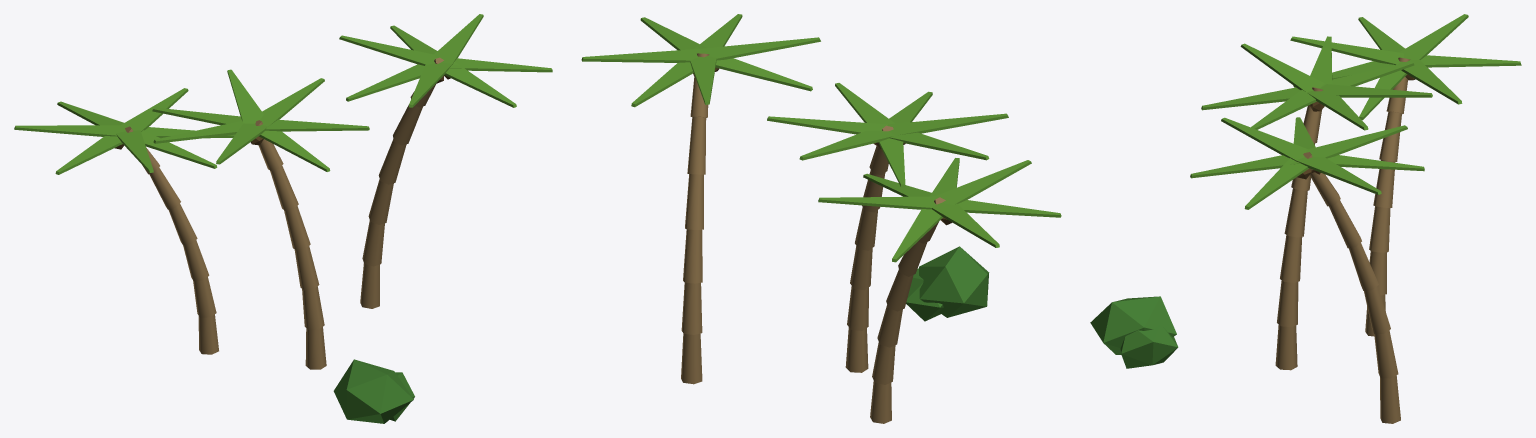
Rendered from sawyer_coastal_palms_e.glb.
3 views of the same model, side by side, from view 1: azimuth 30°, elevation 25°; view 2: azimuth 150°, elevation 25°; view 3: azimuth 270°, elevation 25° (orthographic). The views are drawn at different scales.
Visible parts, largest first — view 1: bush_3_leaves0, palm_2_leaf4, palm_0_leaf5, palm_1_leaf4, palm_1_leaf5, palm_0_leaf2, palm_1_leaf6, palm_0_leaf3, palm_0_leaf1, palm_1_leaf3, palm_1_leaf1, palm_0_leaf6 (+24 smaller); view 2: bush_3_leaves0, palm_0_leaf0, palm_2_leaf2, palm_1_leaf2, palm_0_leaf3, palm_2_leaf6, palm_1_leaf5, palm_0_trunk2, palm_0_trunk1, palm_0_trunk0, palm_1_leaf6, palm_0_leaf6 (+26 smaller); view 3: bush_3_leaves0, bush_3_leaves1, palm_1_leaf2, palm_2_leaf6, palm_0_leaf0, palm_0_leaf5, palm_1_leaf6, palm_0_leaf3, palm_2_leaf4, palm_0_leaf1, palm_0_leaf2, palm_1_trunk0 (+27 smaller).
Part boxes in pixels (<box>): bush_3_leaves0: <box>333,359,413,423</box>; palm_2_leaf4: <box>14,125,125,136</box>; palm_0_leaf5: <box>339,35,436,65</box>; palm_1_leaf4: <box>265,119,369,131</box>; palm_1_leaf5: <box>260,78,324,126</box>; palm_0_leaf2: <box>450,58,552,72</box>; palm_1_leaf6: <box>227,69,263,123</box>; palm_0_leaf3: <box>434,14,483,64</box>; palm_0_leaf1: <box>444,61,516,107</box>; palm_1_leaf3: <box>259,130,330,171</box>; palm_1_leaf1: <box>153,120,254,143</box>; palm_0_leaf6: <box>346,64,424,101</box>; bush_3_leaves0: <box>919,246,989,317</box>; palm_0_leaf0: <box>700,37,820,60</box>; palm_2_leaf2: <box>818,196,936,209</box>; palm_1_leaf2: <box>888,113,1008,135</box>; palm_0_leaf3: <box>581,49,701,62</box>; palm_2_leaf6: <box>933,160,1031,204</box>; palm_1_leaf5: <box>767,116,887,134</box>; palm_0_trunk2: <box>683,229,702,283</box>; palm_0_trunk1: <box>681,282,702,334</box>; palm_0_trunk0: <box>681,333,702,384</box>; palm_1_leaf6: <box>799,130,894,160</box>; palm_0_leaf6: <box>715,58,812,91</box>; bush_3_leaves0: <box>1090,296,1176,354</box>; bush_3_leaves1: <box>1120,325,1178,368</box>; palm_1_leaf2: <box>1240,43,1324,92</box>; palm_2_leaf6: <box>1290,36,1403,64</box>; palm_0_leaf0: <box>1221,117,1307,161</box>; palm_0_leaf5: <box>1306,125,1407,158</box>; palm_1_leaf6: <box>1320,84,1432,97</box>; palm_0_leaf3: <box>1295,157,1381,194</box>; palm_2_leaf4: <box>1399,14,1468,59</box>; palm_0_leaf1: <box>1190,155,1300,178</box>; palm_0_leaf2: <box>1244,158,1308,209</box>; palm_1_trunk0: <box>1275,324,1297,370</box>.
Size of the model in its own units: 5.36 by 3.11 by 4.3.
